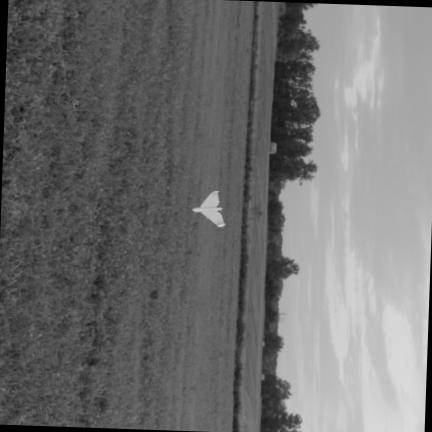Shahed: (192, 191, 224, 226)
